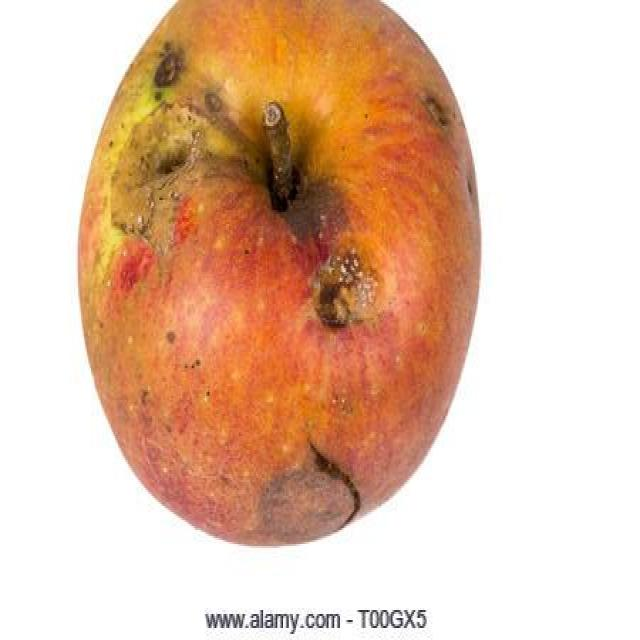Rotten: (95, 0, 465, 540)
